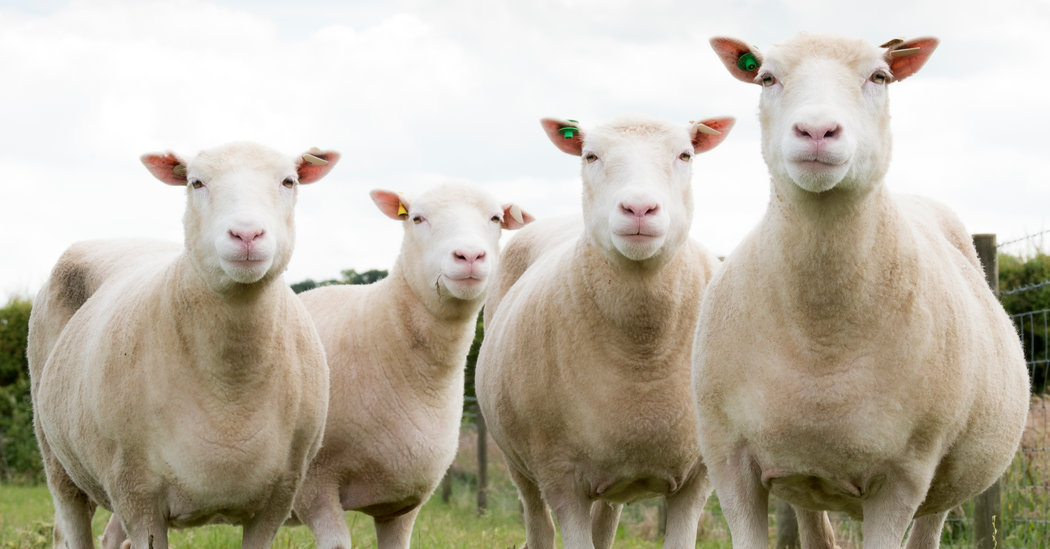sheep: (701, 9, 1035, 549), (32, 77, 373, 549), (468, 40, 754, 521), (296, 68, 546, 549)
